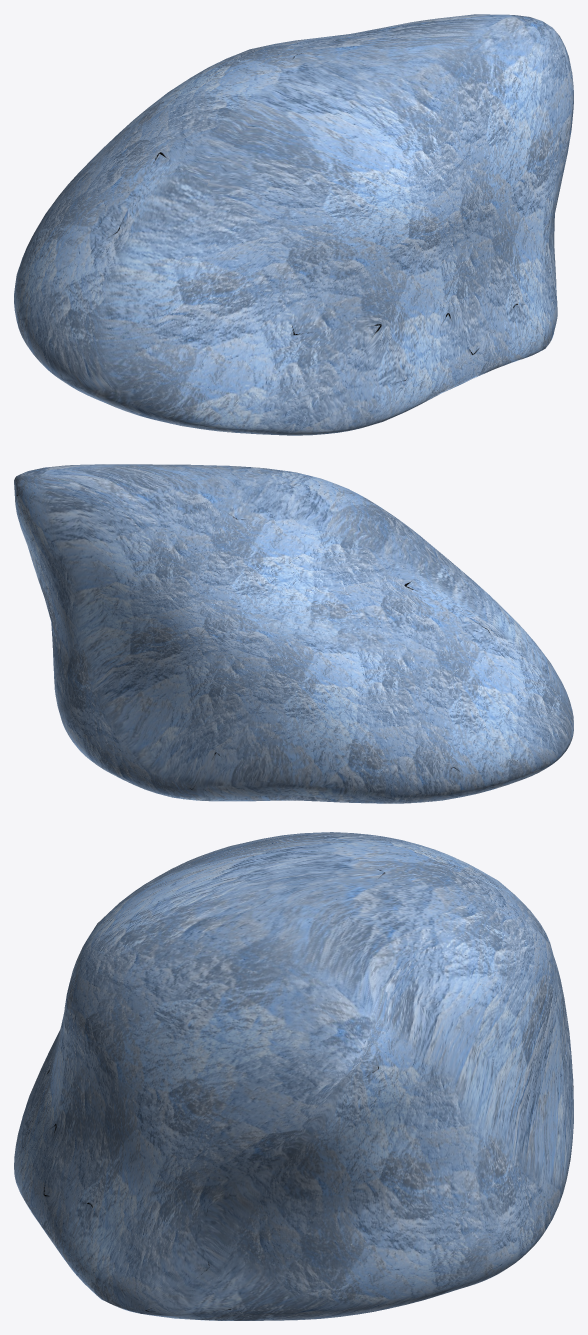
File: rockIce.fbx
3 views of the same model, one above another, from view 1: azimuth 30°, elevation 25°; view 2: azimuth 150°, elevation 25°; view 3: azimuth 270°, elevation 25° (orthographic). The views are drawn at different scales.
Visible parts, largest first — view 1: Rock; view 2: Rock; view 3: Rock.
Part boxes in pixels (bbox=[...]): Rock: bbox=[14, 14, 573, 435]; Rock: bbox=[14, 464, 573, 803]; Rock: bbox=[14, 832, 573, 1320].
Size of the model in its own units: 214 by 101 by 144.
